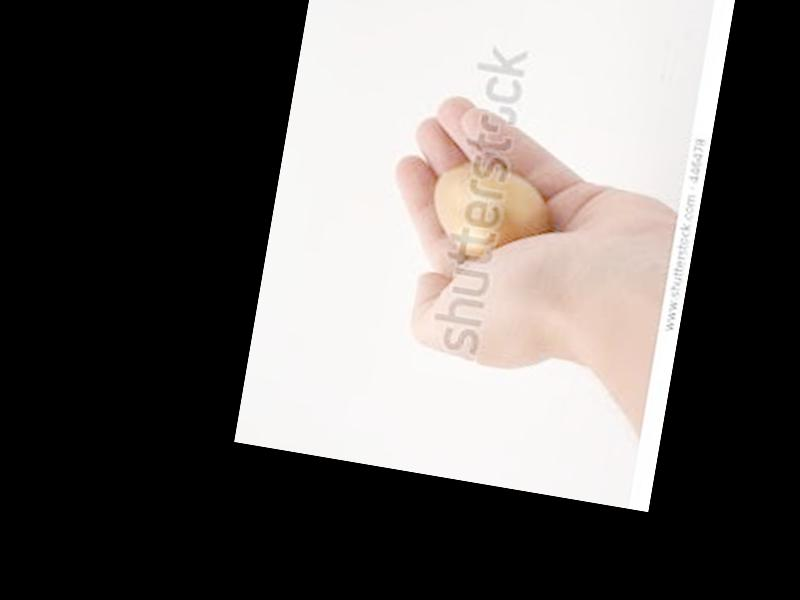Eggs: (426, 158, 553, 264)
